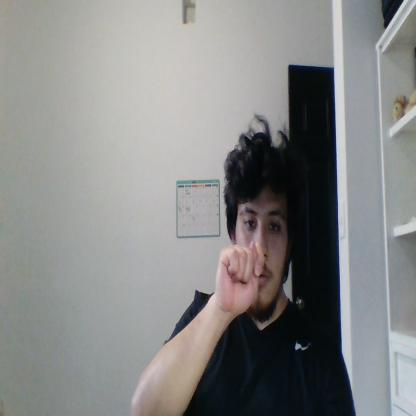T: (216, 238, 264, 315)
